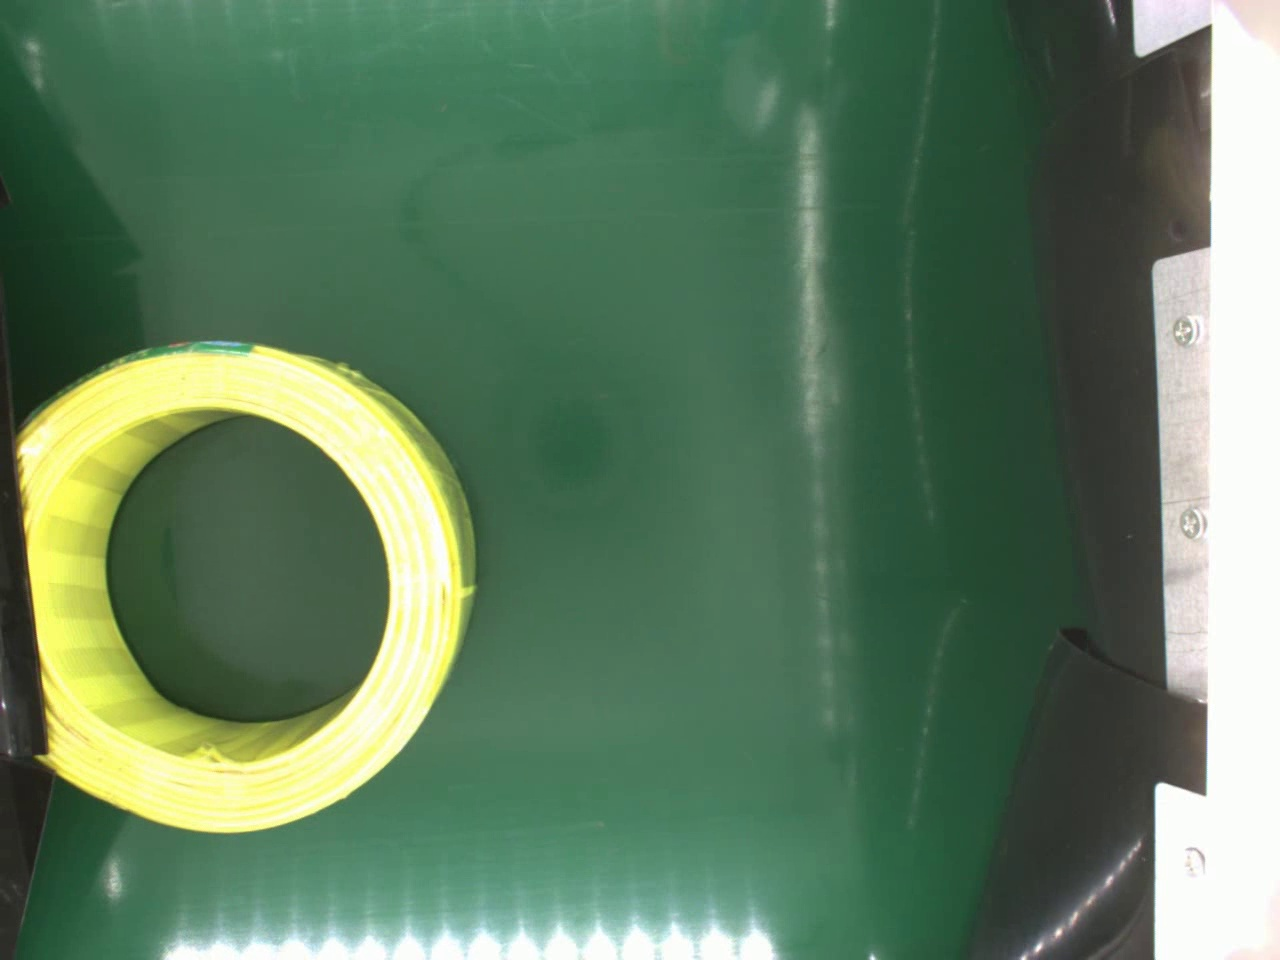yellow: (17, 338, 486, 838)
